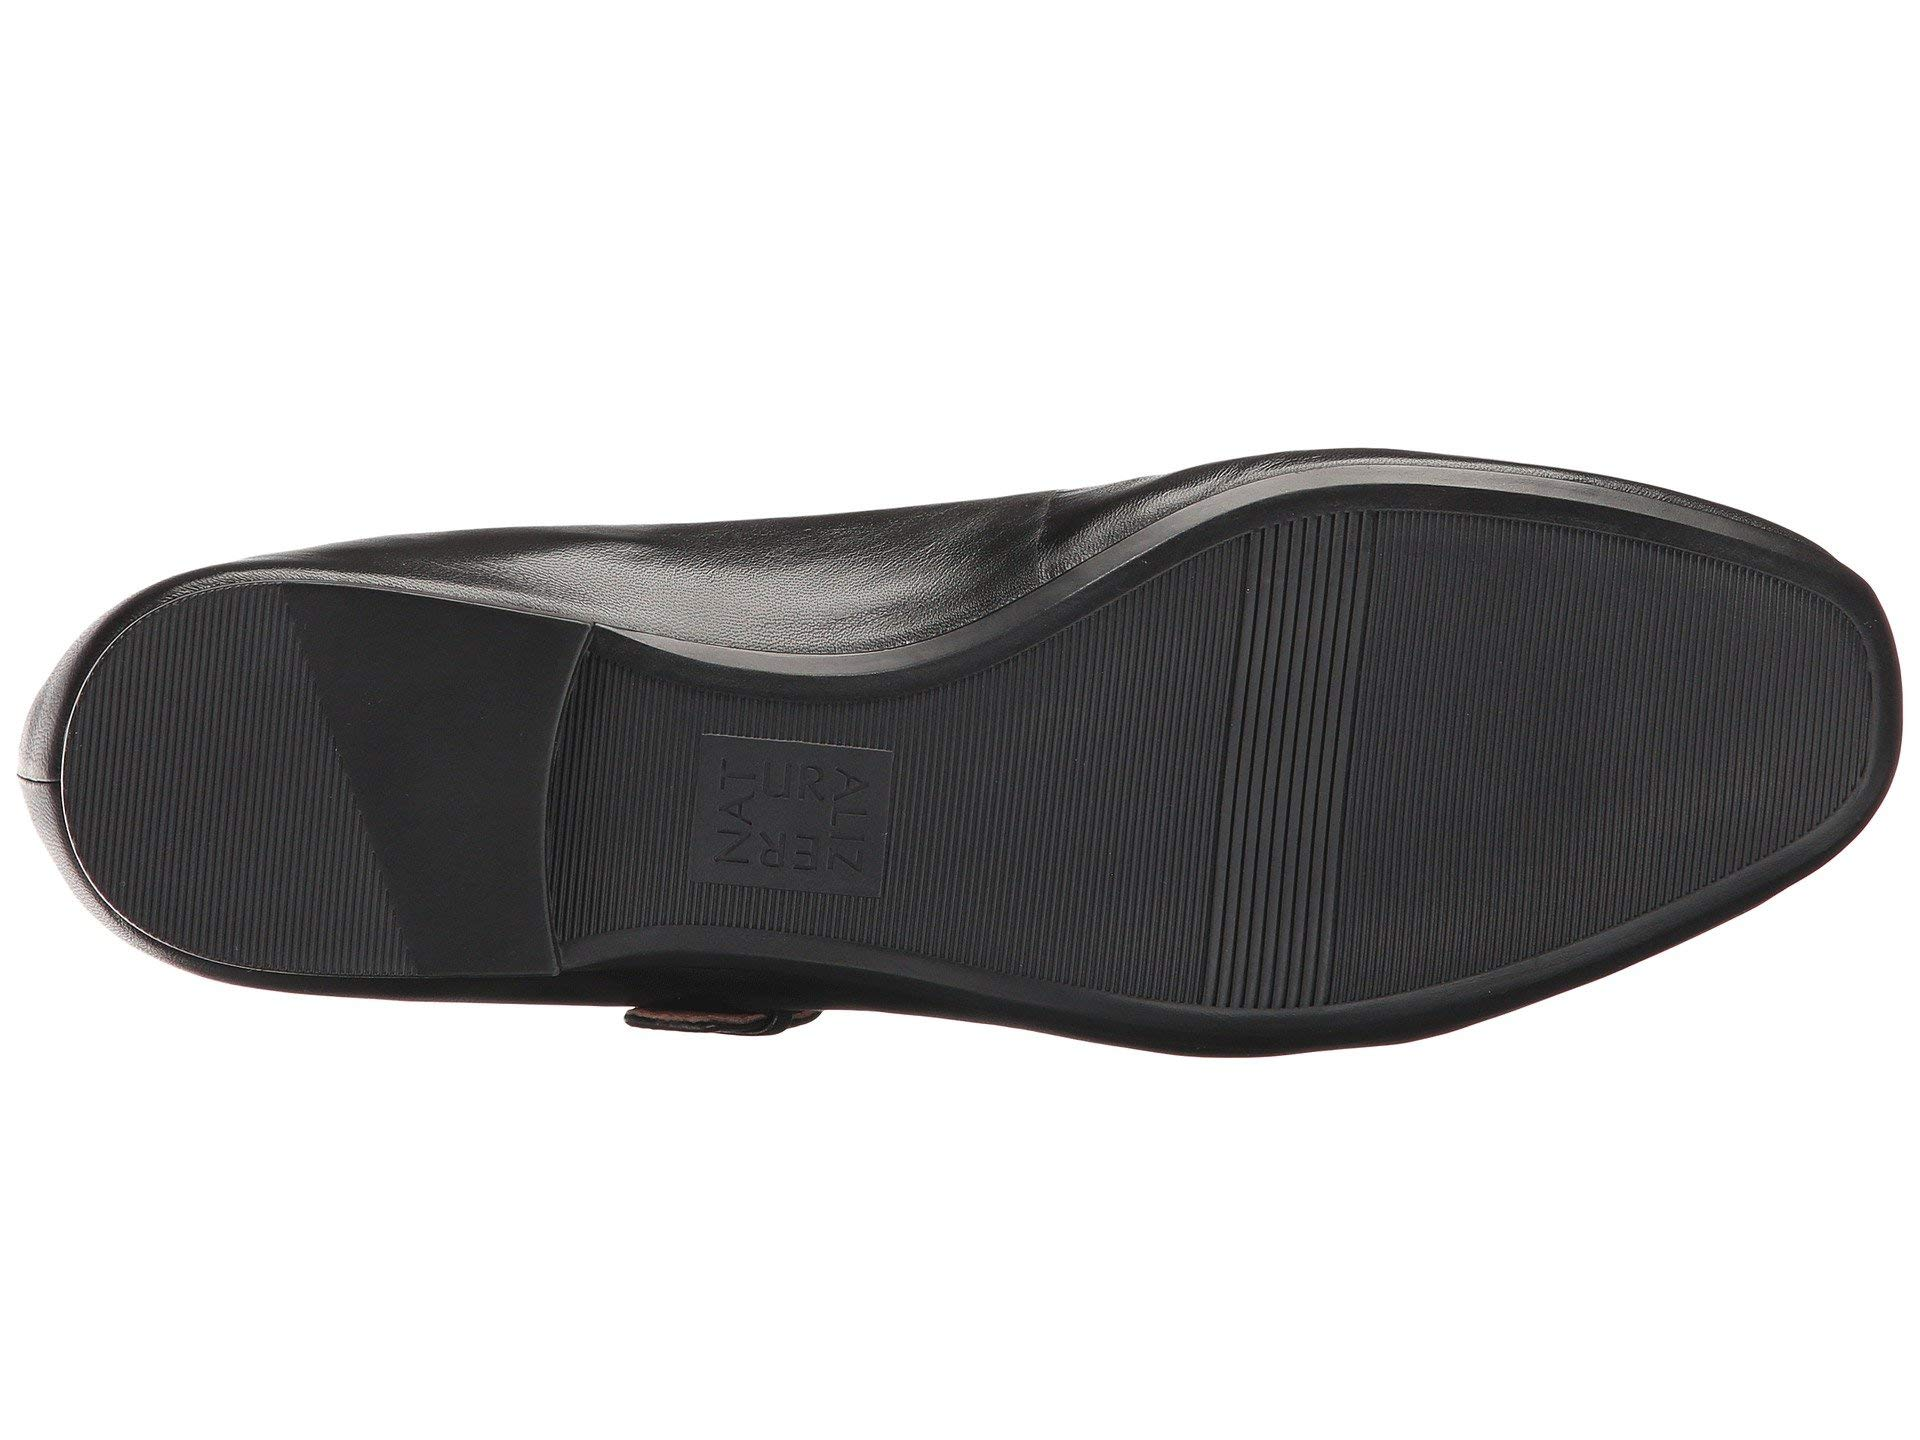line: (1166, 581, 1586, 941), (633, 694, 937, 941)
quad: (633, 694, 937, 941)
text: (633, 694, 937, 941)
